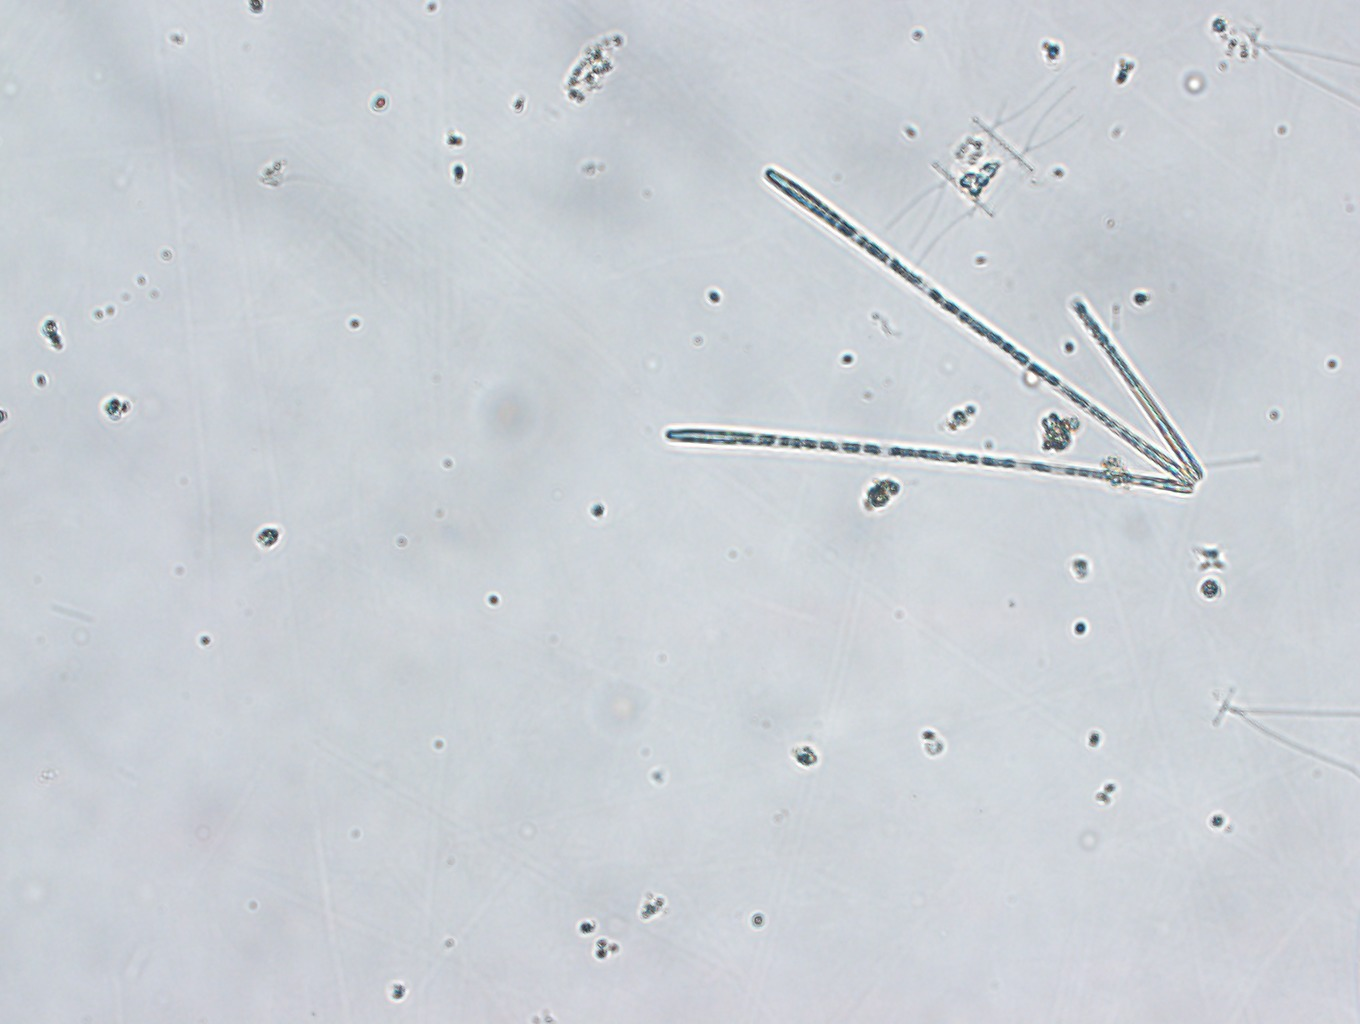chaetoceros: (885, 75, 1083, 270), (1211, 688, 1360, 779), (1235, 17, 1360, 108)
thalassionema frauenfeldii: (662, 163, 1212, 503)
